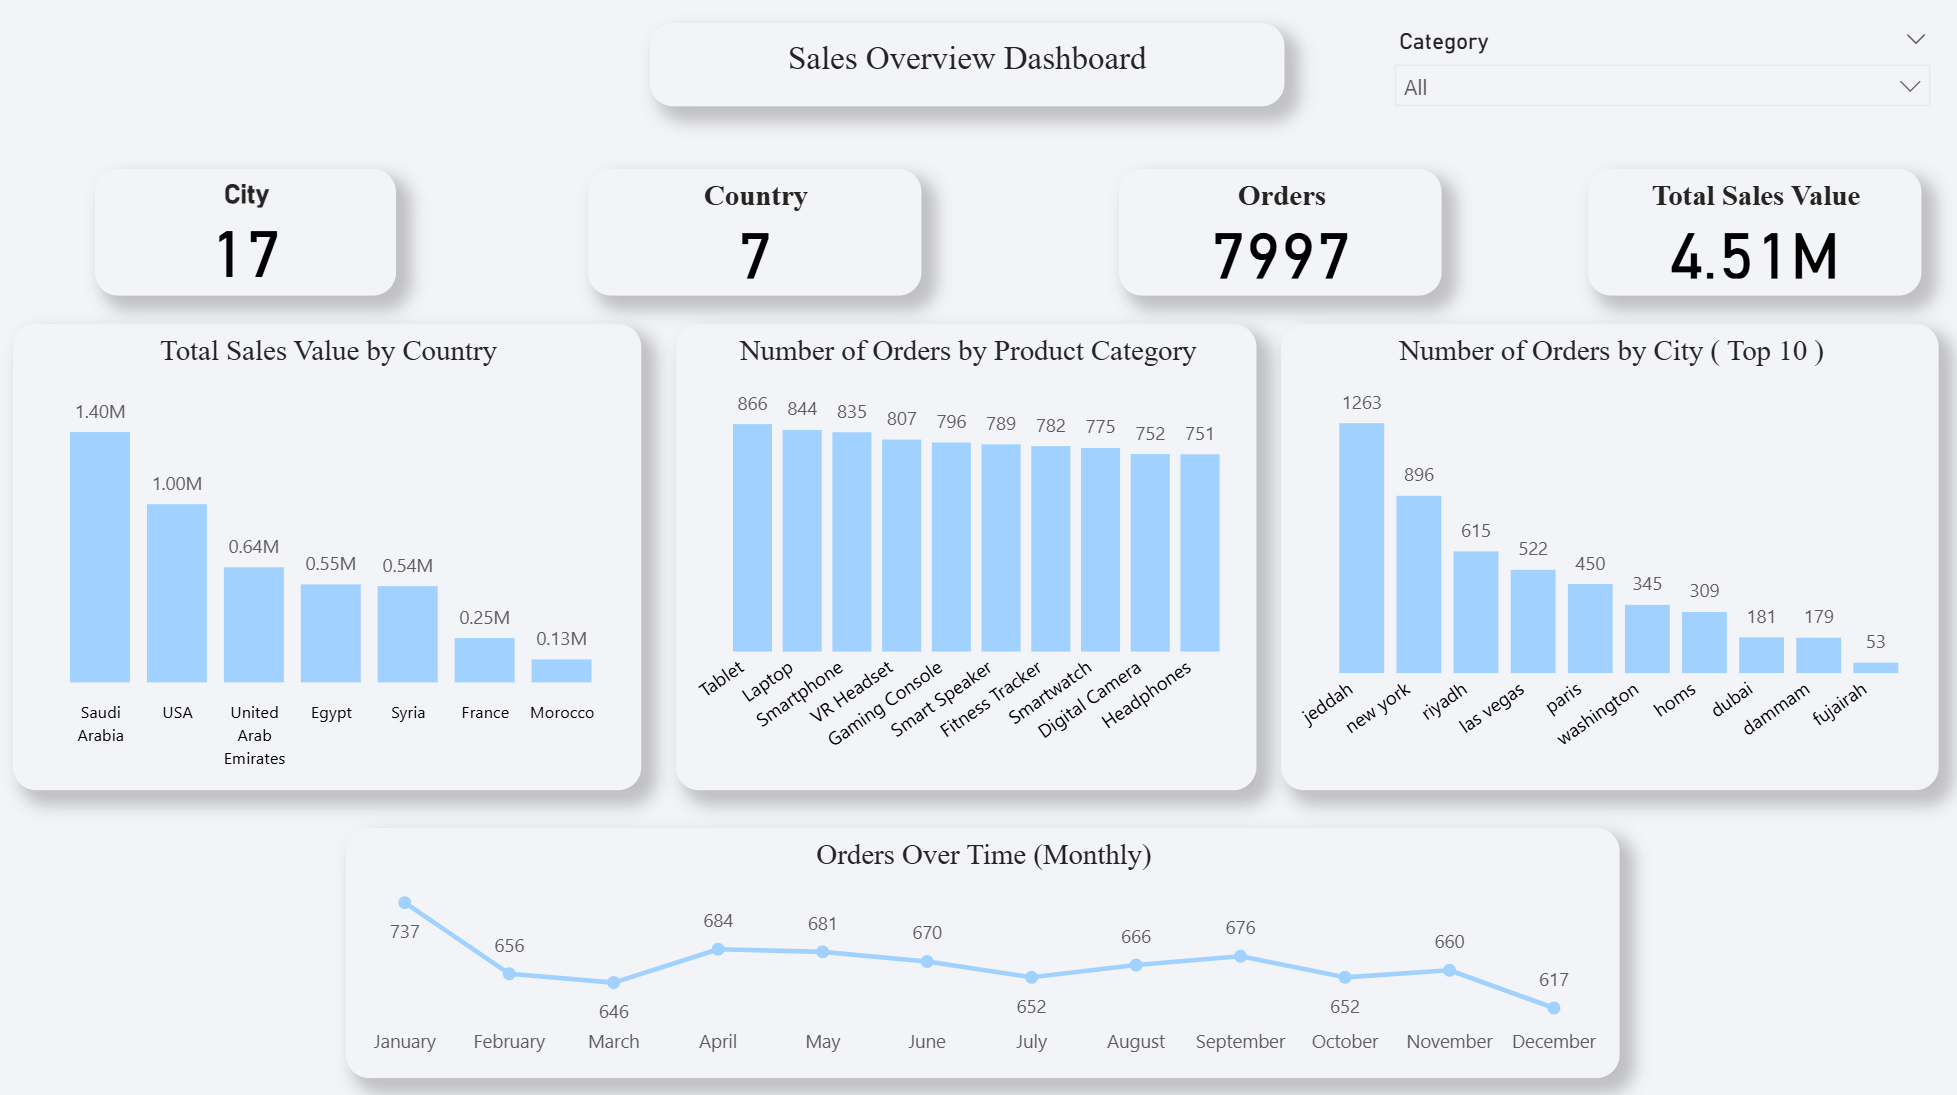

The dashboard page shown, as its layout file describes it:
{"tool":"powerbi","page":{"name":"Page 1","canvas":[1280,720],"ordinal":0},"visuals":[{"type":"shape","box":[0,0,1280,719.8],"z":0},{"type":"shape","box":[227.7,542.5,824.5,162.3],"z":1000},{"type":"shape","box":[12.3,215.6,406.7,302.2],"z":2000},{"type":"shape","box":[442.1,215.6,376.4,302.2],"z":3000},{"type":"shape","box":[833.6,215.6,426.2,302.2],"z":4000},{"type":"lineChart","title":"Orders Over Time (Monthly)","fields":{"Category":["Orders (1).Order Date.Variation.Date Hierarchy.Month"],"Y":["CountNonNull(Orders (1).Order ID)"]},"box":[227.7,542.5,824.5,162.3],"z":5000},{"type":"columnChart","title":"Total Sales Value by Country","fields":{"Category":["Orders (1).Country"],"Y":["Sum(Orders (1).Total Cost)"]},"box":[12.3,215.6,406.7,302.2],"z":6000},{"type":"columnChart","title":"Number of Orders by Product Category","fields":{"Category":["Orders (1).Category"],"Y":["CountNonNull(Orders (1).Order ID)"]},"box":[442.1,215.6,376.4,302.2],"z":7000},{"type":"columnChart","title":"Number of Orders by City ( Top 10 )","fields":{"Category":["Orders (1).City"],"Y":["CountNonNull(Orders (1).Order ID)"]},"box":[833.6,215.6,426.2,302.2],"z":8000},{"type":"card","title":"City","fields":{"Values":["Count(Orders (1).City)"]},"box":[65.6,115.4,194.7,82.2],"z":8001},{"type":"card","title":"Orders","fields":{"Values":["CountNonNull(Orders (1).Order ID)"]},"box":[729.1,115.4,209.1,82.2],"z":8002},{"type":"card","title":"Country","fields":{"Values":["Count(Orders (1).Country)"]},"box":[385.1,115.4,215.6,82.2],"z":8003},{"type":"textbox","box":[424.7,20.9,411,54.1],"z":8004},{"type":"slicer","fields":{"Values":["Orders (1).Category"]},"box":[891.3,13.7,378.6,68.5],"z":8005},{"type":"card","title":"Total Sales Value","fields":{"Values":["Sum(Orders (1).Total Cost)"]},"box":[1032.7,115.4,215.6,82.2],"z":8006}]}

Visuals, with their boxes in screenshot pixels (x1, y1, x2, y2), scaled from the page's 1280x720 canvas onto the 1957x1095 screenshot:
shape: x1=0, y1=0, x2=1956, y2=1094
shape: x1=348, y1=825, x2=1609, y2=1072
shape: x1=19, y1=328, x2=641, y2=787
shape: x1=676, y1=328, x2=1251, y2=787
shape: x1=1274, y1=328, x2=1926, y2=787
"Orders Over Time (Monthly)" lineChart: x1=348, y1=825, x2=1609, y2=1072
"Total Sales Value by Country" columnChart: x1=19, y1=328, x2=641, y2=787
"Number of Orders by Product Category" columnChart: x1=676, y1=328, x2=1251, y2=787
"Number of Orders by City ( Top 10 )" columnChart: x1=1274, y1=328, x2=1926, y2=787
"City" card: x1=100, y1=176, x2=398, y2=301
"Orders" card: x1=1115, y1=176, x2=1434, y2=301
"Country" card: x1=589, y1=176, x2=918, y2=301
textbox: x1=649, y1=32, x2=1278, y2=114
slicer - Orders (1).Category: x1=1363, y1=21, x2=1942, y2=125
"Total Sales Value" card: x1=1579, y1=176, x2=1909, y2=301
